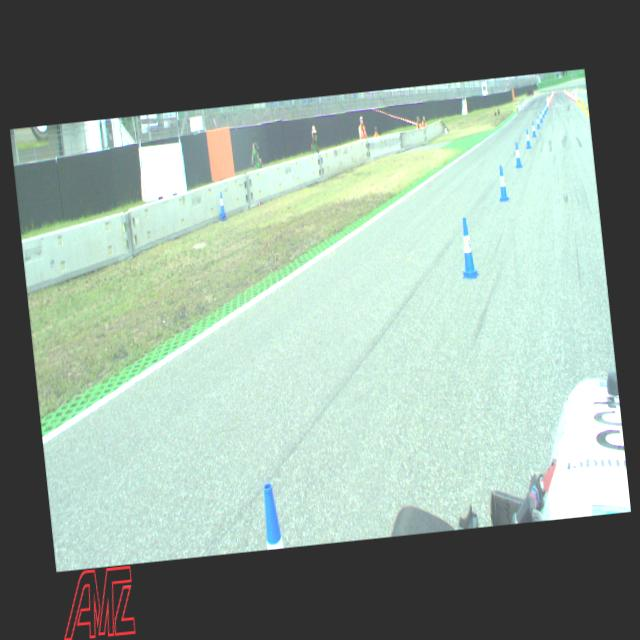blue_cone: (259, 481, 284, 549), (456, 216, 479, 278), (496, 164, 508, 201), (513, 142, 522, 168), (217, 190, 225, 216), (524, 129, 530, 148), (530, 120, 536, 136), (536, 115, 540, 128), (538, 110, 542, 123), (541, 106, 544, 118), (542, 105, 546, 114), (544, 104, 546, 112)
yellow_cone: (584, 102, 588, 115), (581, 100, 585, 112), (575, 96, 578, 104), (580, 98, 582, 108), (578, 96, 580, 105)
